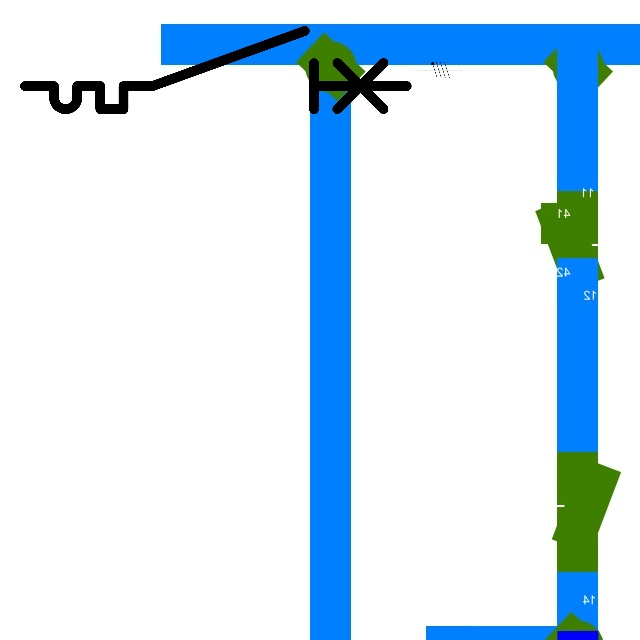interruptor_termomagnetico: (15, 21, 417, 119)
